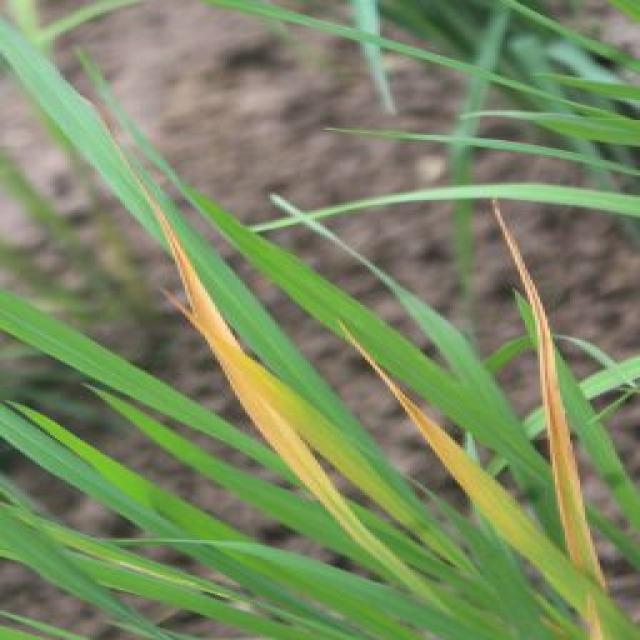Tungro: (98, 165, 402, 538), (464, 191, 640, 569)
